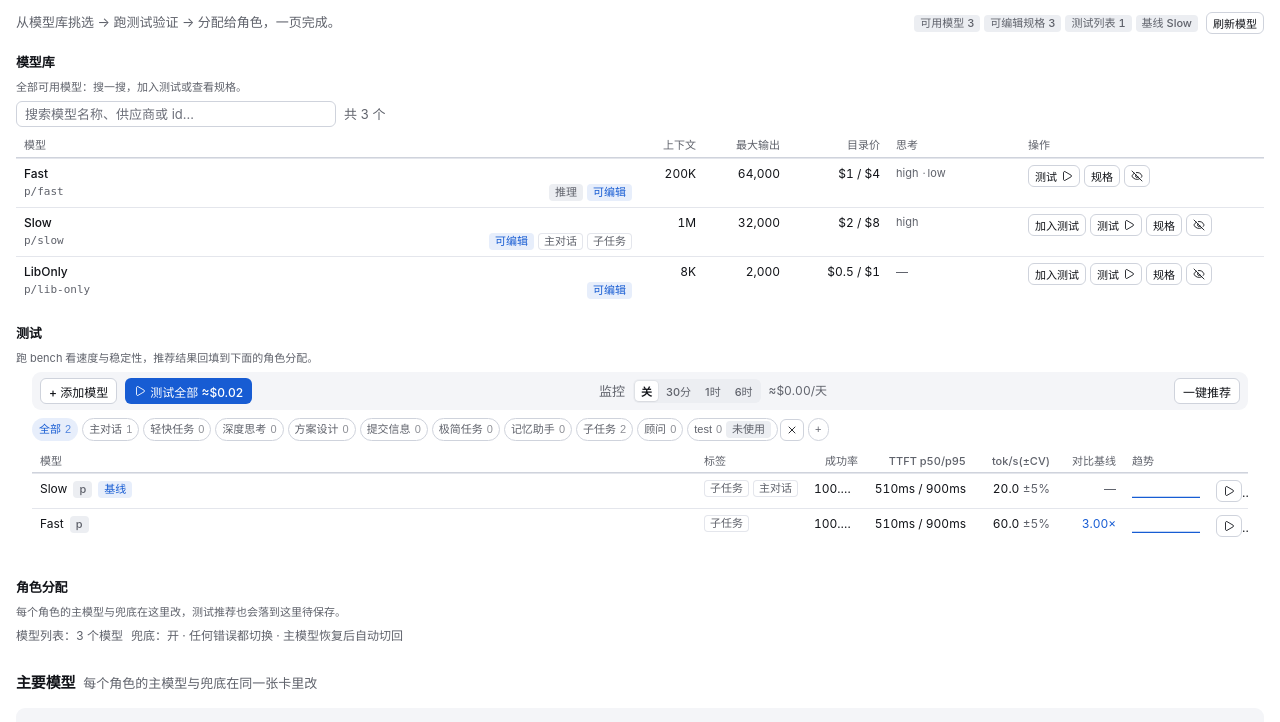
Test: 模型库 › 加入测试把模型推进受控 bench 列表
Expected: the element "模型库" is shown, left=16, top=38, right=1264, bottom=305
Expected: the button "测试全部 ≈$0.02" is shown, left=125, top=378, right=252, bottom=404
Click the button "加入测试" in the row of "1M" at (1057, 225), box left=1028, top=214, right=1086, bottom=236
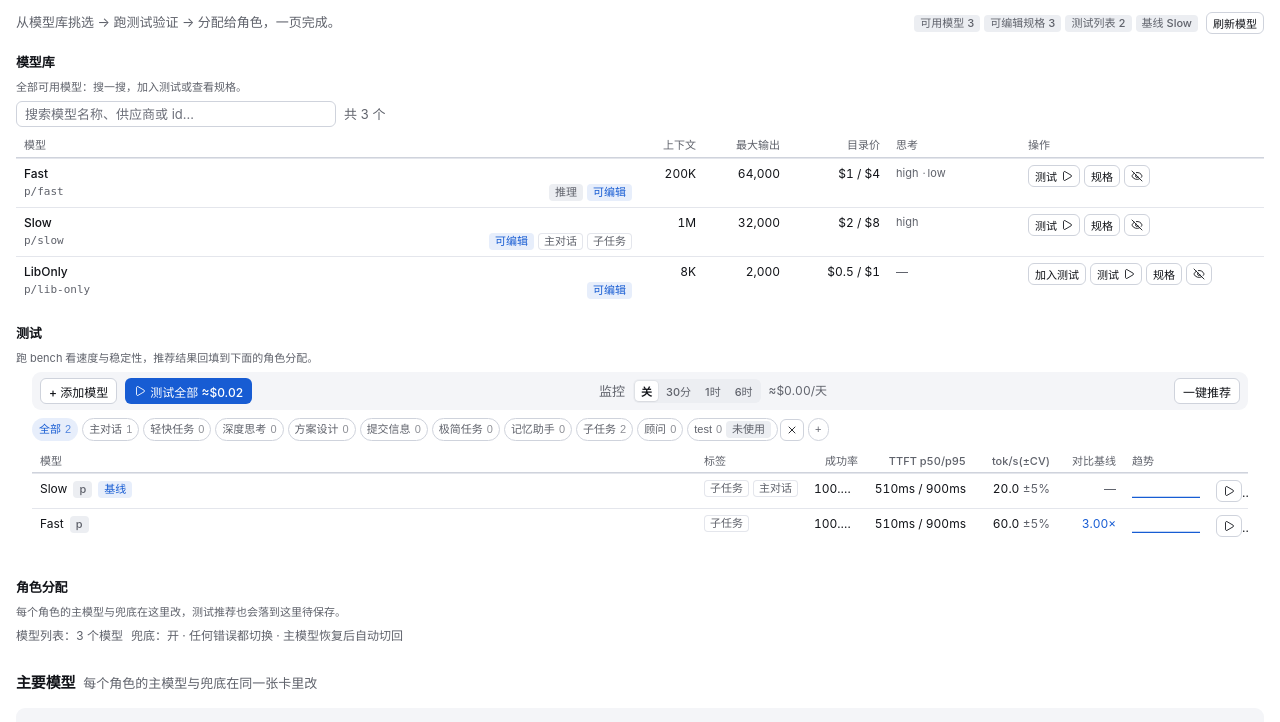
Expected: the text "测试列表 2" is shown, left=1066, top=14, right=1132, bottom=32
